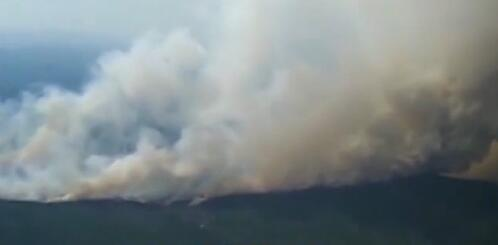yanwu: (0, 2, 496, 185)
